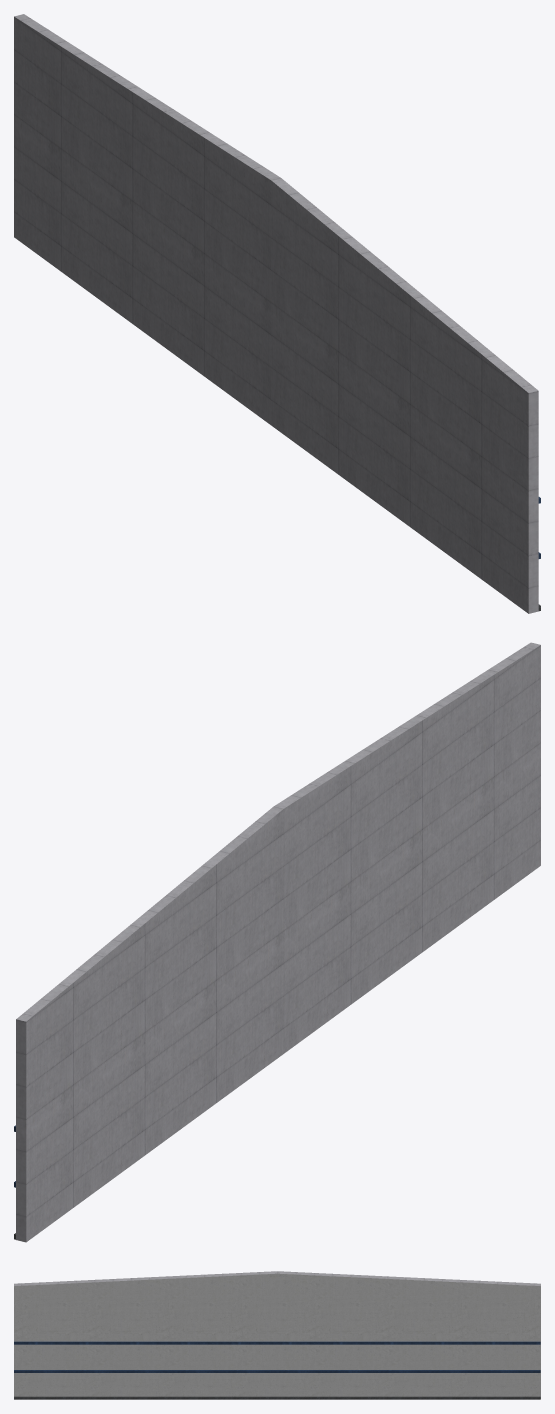
The model's file is WareFront_Walls.FBX.
3 views of the same model, one above another, from view 1: azimuth 30°, elevation 25°; view 2: azimuth 150°, elevation 25°; view 3: azimuth 270°, elevation 25° (orthographic). The views are drawn at different scales.
Visible parts, largest first — view 1: WareFront_Walls; view 2: WareFront_Walls; view 3: WareFront_Walls, WareFront_Metal.
Part boxes in pixels (x1=…): WareFront_Walls: x1=14, y1=14, x2=540, y2=613; WareFront_Walls: x1=14, y1=642, x2=540, y2=1242; WareFront_Walls: x1=14, y1=1271, x2=540, y2=1399; WareFront_Metal: x1=14, y1=1341, x2=540, y2=1372.
Bounding box in the file's own units: 20.33 × 383 × 1457.
